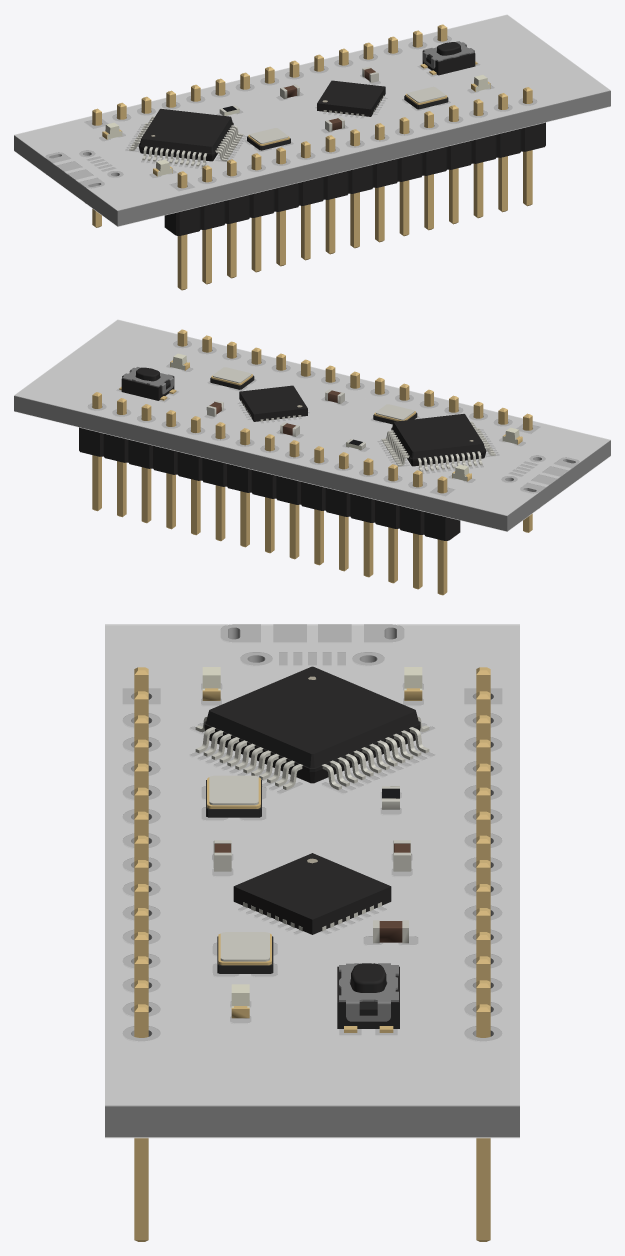
File: nucleo_g431kb.glb
3 views of the same model, one above another, from view 1: azimuth 30°, elevation 25°; view 2: azimuth 150°, elevation 25°; view 3: azimuth 270°, elevation 25° (orthographic). The views are drawn at different scales.
Parts seen in each view (by area): view 1: =>[0:1:1:14], =>[0:1:1:12], REF**, =>[0:1:1:11]; view 2: =>[0:1:1:14], =>[0:1:1:12], REF**, =>[0:1:1:11]; view 3: =>[0:1:1:14], =>[0:1:1:12], REF**, =>[0:1:1:11].
Part boxes in pixels (x1,y1,x2,y2): =>[0:1:1:14]: [14, 15, 610, 226]; =>[0:1:1:12]: [14, 14, 610, 226]; REF**: [92, 24, 545, 290]; =>[0:1:1:11]: [45, 36, 537, 203]; =>[0:1:1:14]: [14, 320, 610, 531]; =>[0:1:1:12]: [14, 319, 610, 531]; REF**: [79, 329, 532, 595]; =>[0:1:1:11]: [87, 341, 579, 508]; =>[0:1:1:14]: [105, 625, 519, 1137]; =>[0:1:1:12]: [105, 624, 519, 1138]; REF**: [134, 666, 490, 1241]; =>[0:1:1:11]: [122, 624, 502, 1041].
Size of the model in its own units: 0.0508 by 0.0121 by 0.0185.
Materials: 4 (4 with a texture image).
